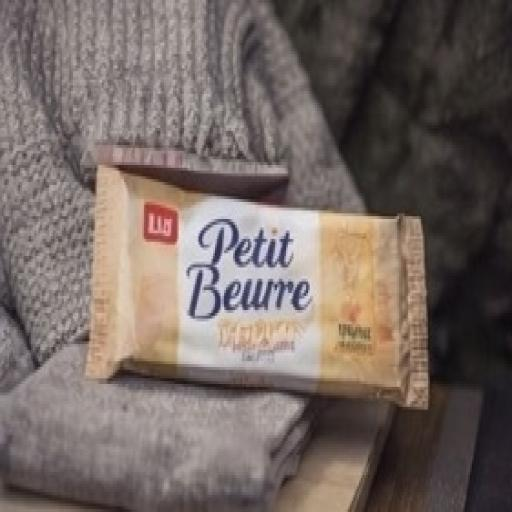petit_beurre: (53, 109, 454, 439)
